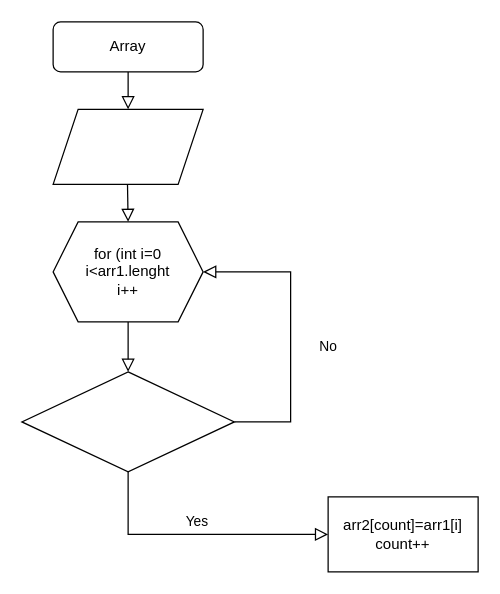
Image size: 500x594. Some labels were removed from this diagram. The centre of each missing label's shape, as x and y in pixels:
if arr1[i].lenght<=3): the point at 127,421
string []arr1 string arr2 int count=0: the point at 127,146
